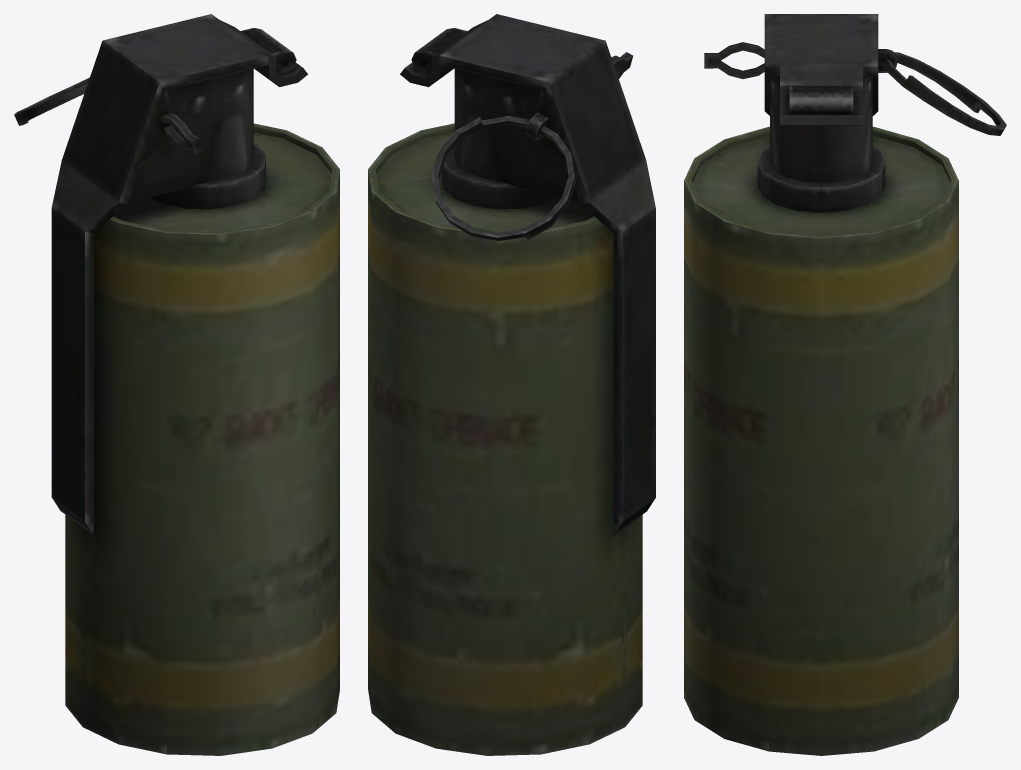
File: WP_SmokeGrenade.obj
3 views of the same model, side by side, from view 1: azimuth 30°, elevation 25°; view 2: azimuth 150°, elevation 25°; view 3: azimuth 270°, elevation 25° (orthographic).
Visible parts, largest first — view 1: Part_0; view 2: Part_0; view 3: Part_0.
Boxes of the visible parts, bbox=[...] form: Part_0: bbox=[14, 14, 339, 755]; Part_0: bbox=[368, 14, 655, 755]; Part_0: bbox=[684, 14, 1006, 755].
Size of the model in its own units: 0.0525 by 0.1293 by 0.0583.
Materials: 1 (1 with a texture image).
